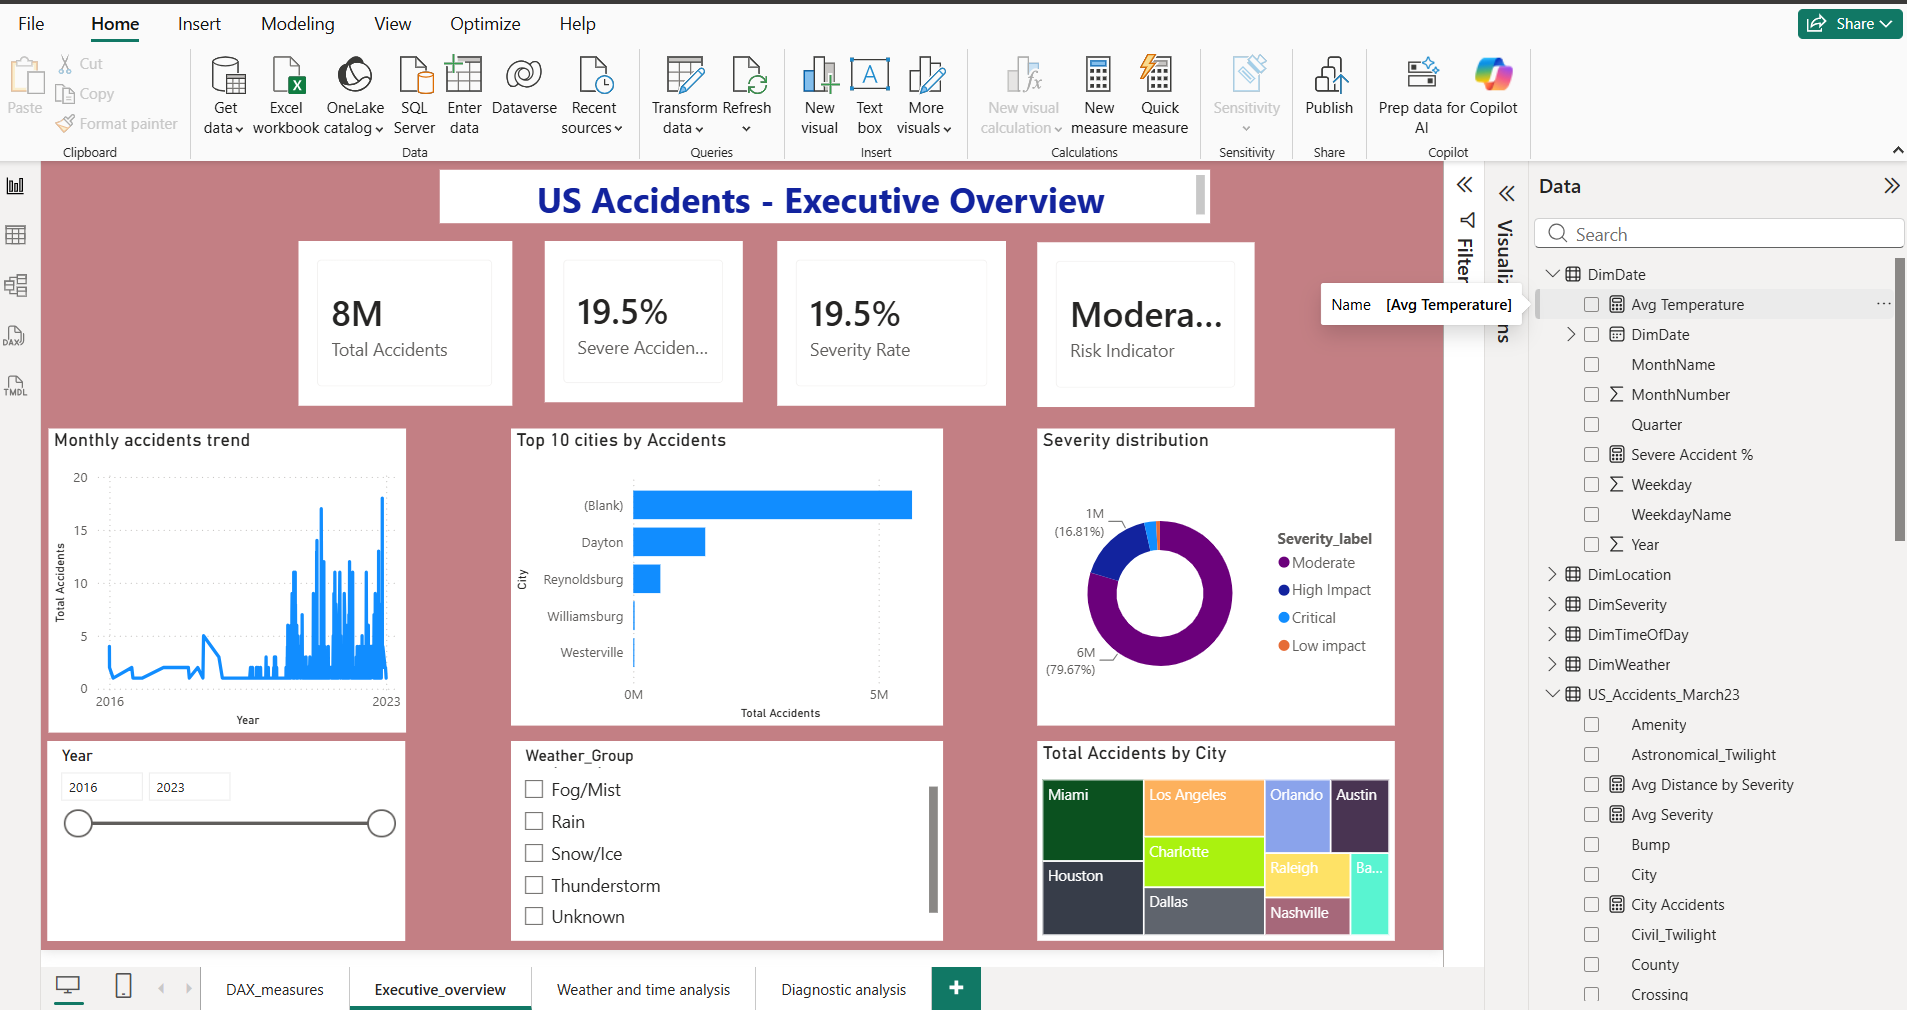

This screenshot's page, from the dashboard's own definition file:
{"tool":"powerbi","page":{"name":"Executive_overview","canvas":[1280,720],"ordinal":1},"visuals":[{"type":"textbox","box":[364.4,7.9,703.5,49.1],"z":0},{"type":"cardVisual","fields":{"Data":["US_Accidents_March23.Total Accidents"]},"box":[234.5,72.9,194.9,150.5],"z":1},{"type":"cardVisual","fields":{"Data":["DimDate.Severe Accident %"]},"box":[459.5,72.9,180.6,147.4],"z":2},{"type":"cardVisual","fields":{"Data":["US_Accidents_March23.Severity Rate"]},"box":[671.9,72.9,209.2,150.5],"z":3},{"type":"cardVisual","fields":{"Data":["US_Accidents_March23.Risk Indicator"]},"box":[909.5,74.5,198.1,150.5],"z":4},{"type":"lineChart","title":"Monthly accidents trend","fields":{"Category":["DimDate.DimDate.Variation.Date Hierarchy.Year","DimDate.DimDate.Variation.Date Hierarchy.Quarter","DimDate.DimDate.Variation.Date Hierarchy.Month","DimDate.DimDate.Variation.Date Hierarchy.Day"],"Y":["US_Accidents_March23.Total Accidents"]},"box":[6.3,244,326.4,277.3],"z":5},{"type":"clusteredBarChart","title":"Top 10 cities by Accidents","fields":{"Category":["DimLocation.City"],"Y":["US_Accidents_March23.Total Accidents"]},"box":[429.4,244,394.6,271],"z":6},{"type":"donutChart","title":"Severity distribution","fields":{"Category":["DimSeverity.Severity_label"],"Y":["US_Accidents_March23.Total Accidents"]},"box":[909.5,244,326.4,271],"z":7},{"type":"slicer","fields":{"Values":["DimDate.DimDate.Variation.Date Hierarchy.Year"]},"box":[5.7,529.4,326.4,182.2],"z":8},{"type":"slicer","fields":{"Values":["DimWeather.Weather_Group"]},"box":[429.4,529.2,394.6,182.2],"z":9},{"type":"treemap","fields":{"Group":["US_Accidents_March23.City"],"Values":["US_Accidents_March23.Total Accidents"]},"box":[909.4,529.4,326.4,182.2],"z":10}]}

Visuals, with their boxes on the page's 1280x720 design canvas (x1, y1, x2, y2). These are canvas units, not pixel positions in the 1907x1010 screenshot, which may show the page scaled, cropped or inside an application window:
textbox: box(364, 8, 1068, 57)
cardVisual - US_Accidents_March23.Total Accidents: box(234, 73, 429, 223)
cardVisual - DimDate.Severe Accident %: box(460, 73, 640, 220)
cardVisual - US_Accidents_March23.Severity Rate: box(672, 73, 881, 223)
cardVisual - US_Accidents_March23.Risk Indicator: box(910, 74, 1108, 225)
"Monthly accidents trend" lineChart: box(6, 244, 333, 521)
"Top 10 cities by Accidents" clusteredBarChart: box(429, 244, 824, 515)
"Severity distribution" donutChart: box(910, 244, 1236, 515)
slicer - DimDate.DimDate.Variation.Date Hierarchy.Year: box(6, 529, 332, 712)
slicer - DimWeather.Weather_Group: box(429, 529, 824, 711)
treemap - US_Accidents_March23.City x US_Accidents_March23.Total Accidents: box(909, 529, 1236, 712)
